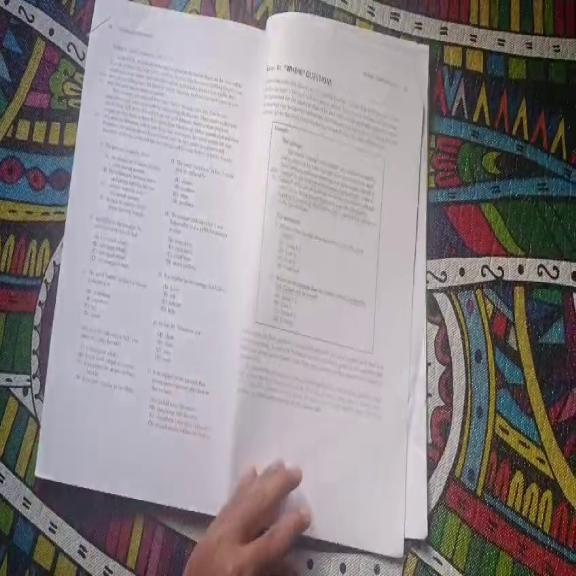Kertas: (35, 7, 427, 556)
